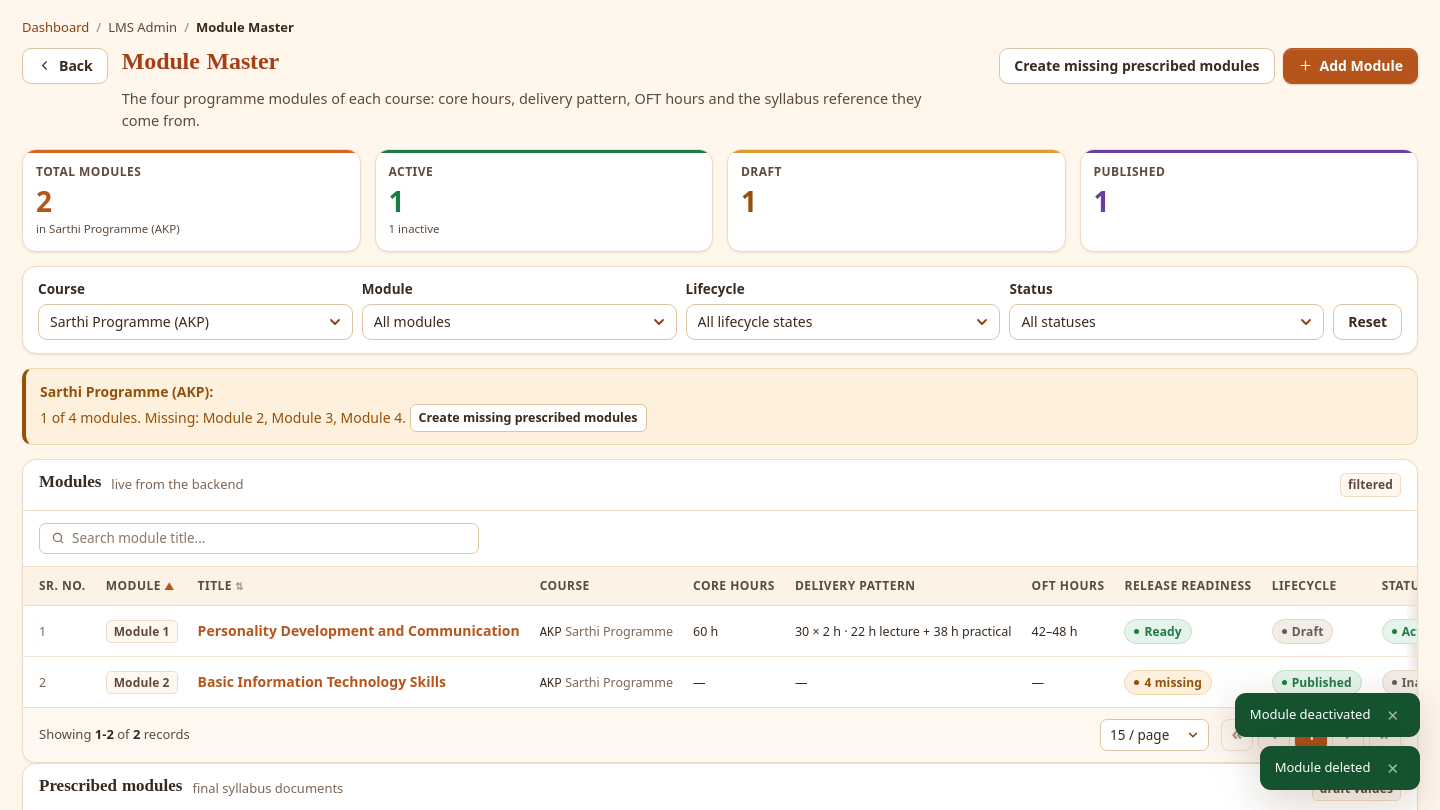
Test: <CourseModuleList> › creates the missing prescribed modules: asks for the syllabus reference, confirms, then sends { courseId, syllabusRef }
Expected: the text "Personality Development and Communication" is shown, 198,621 -> 520,640
Click the 1st button "Create missing prescribed modules". click: (1137, 66)
box: 999,48 -> 1274,84
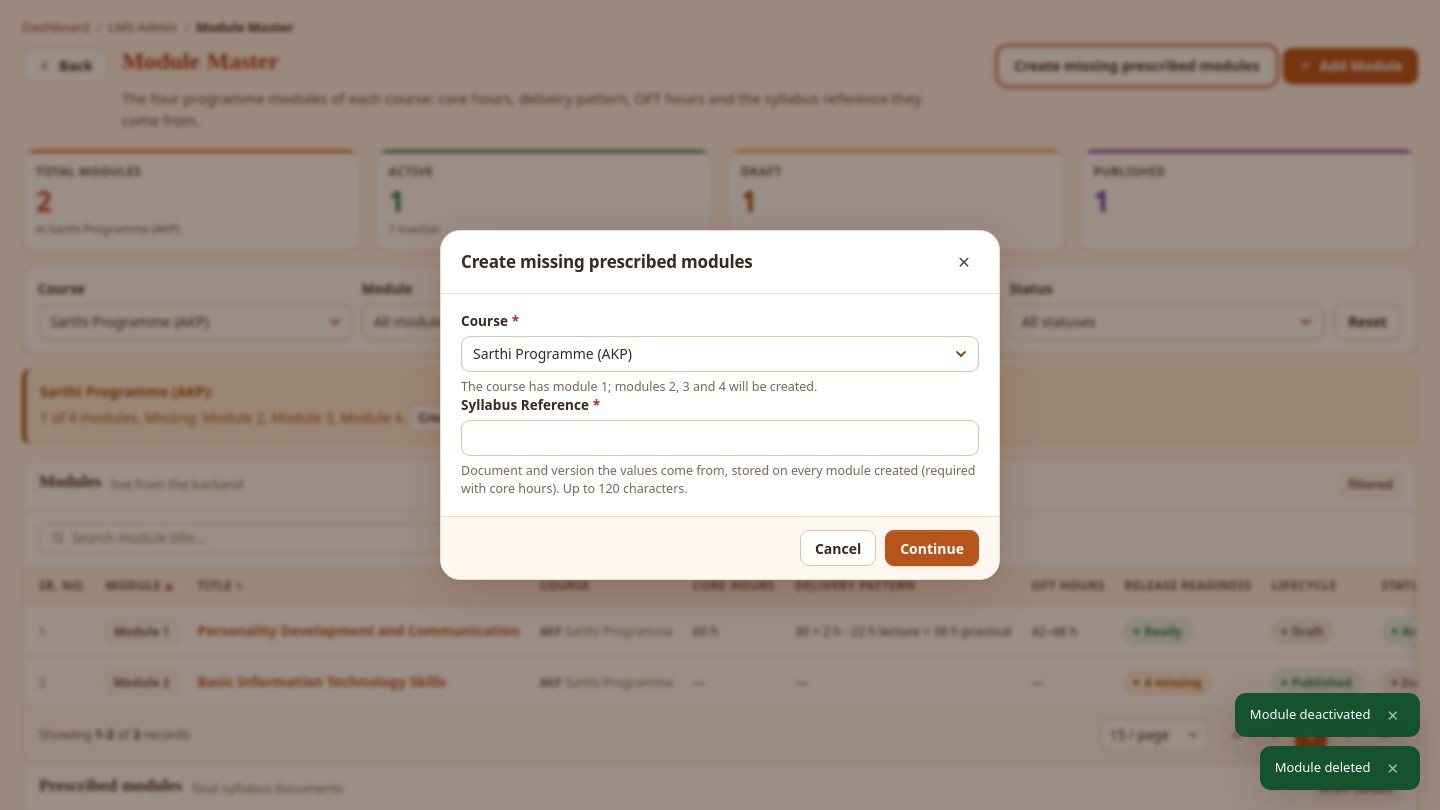
Expected: the dropdown labelled "Course *" shows "Sarthi Programme (AKP)", 461,336 -> 979,372
Expected: the text "The course has module 1; modules 2, 3 and 4 will be created." is shown, 461,378 -> 817,395
Click the button "Continue". click: (932, 548)
box: 885,530 -> 979,566
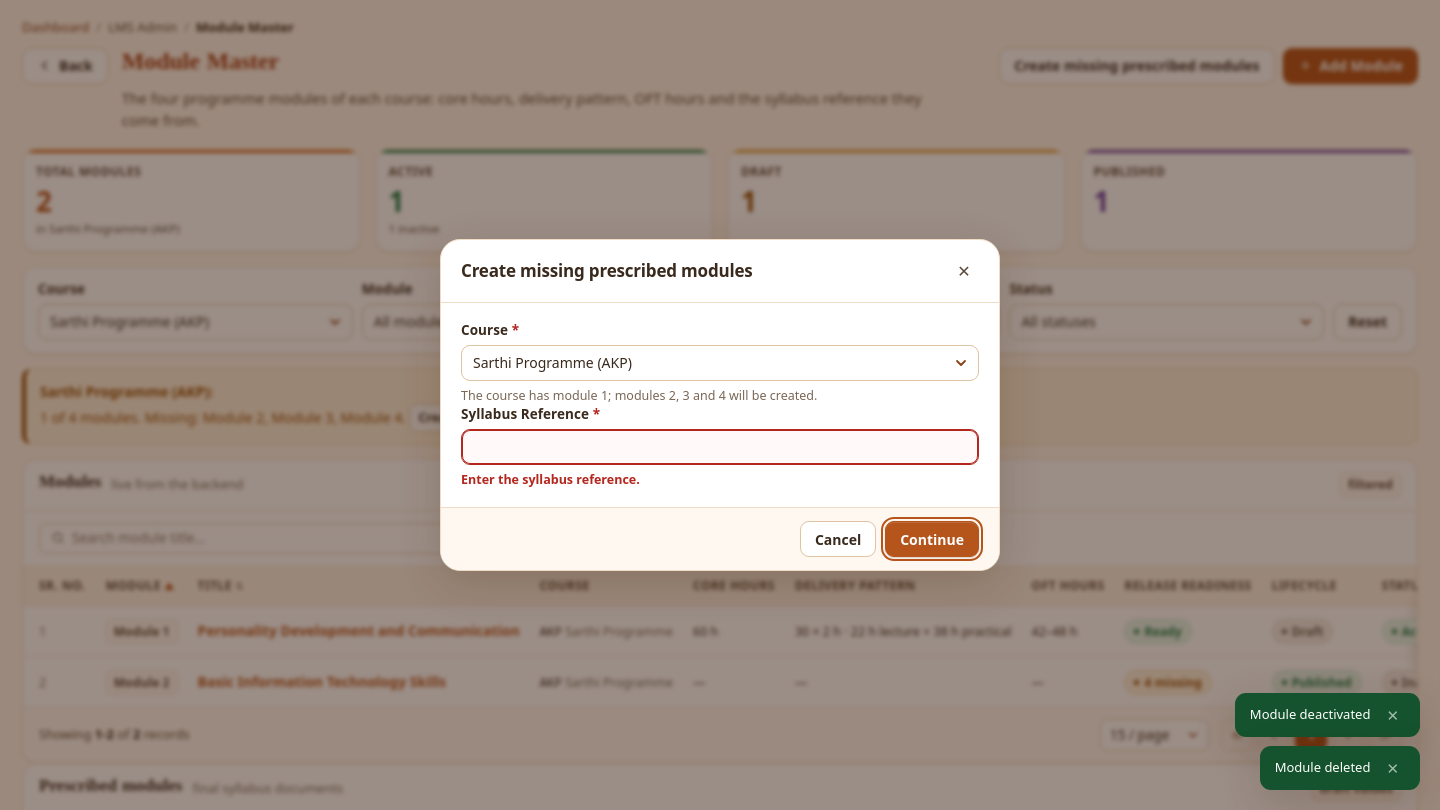
Expected: the text "Enter the syllabus reference." is shown, 461,471 -> 640,488
Type "  Final syllabus v1 " into the field labelled "Syllabus Reference *". click: (720, 447)
box: 461,429 -> 979,465
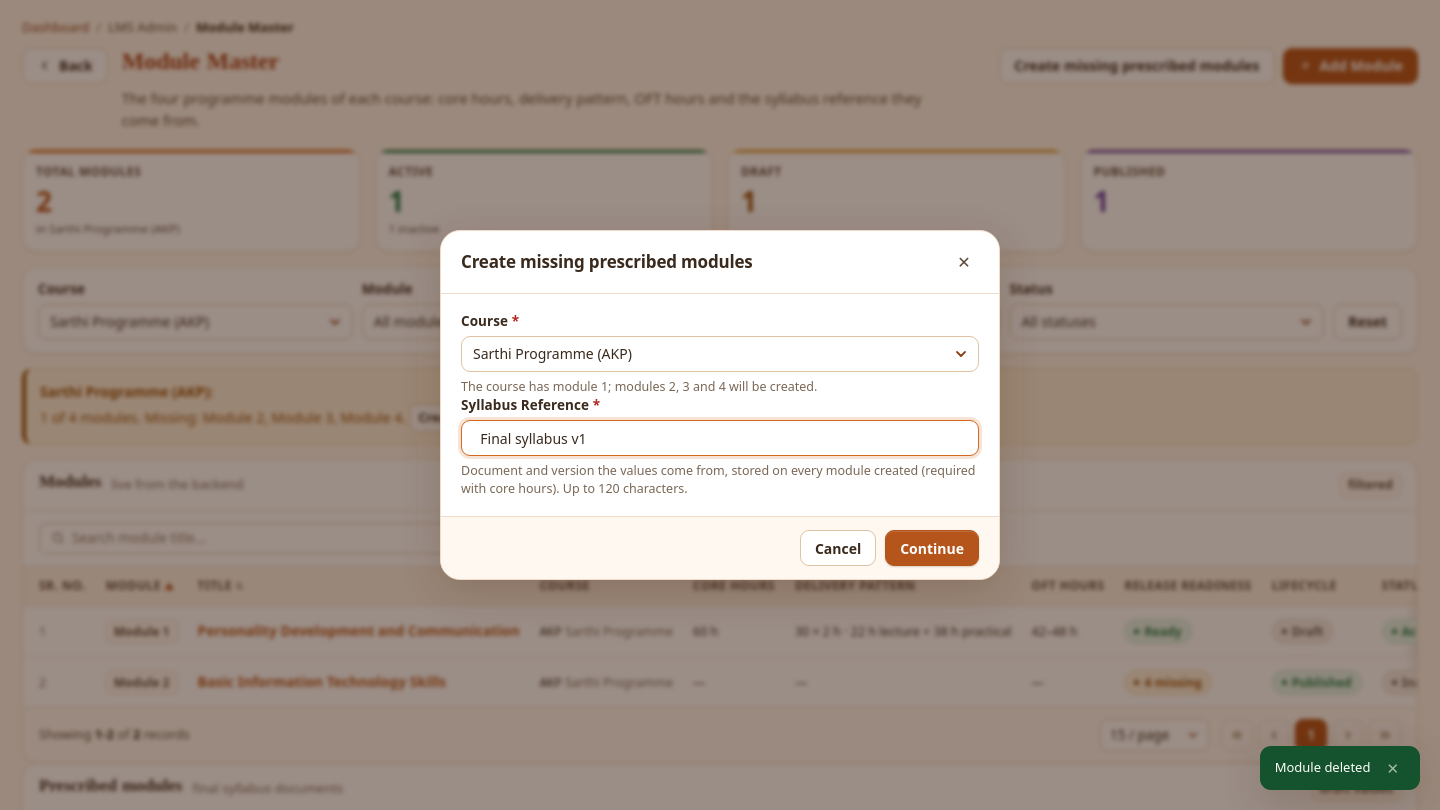
Click the button "Continue". click: (932, 548)
box: 885,530 -> 979,566
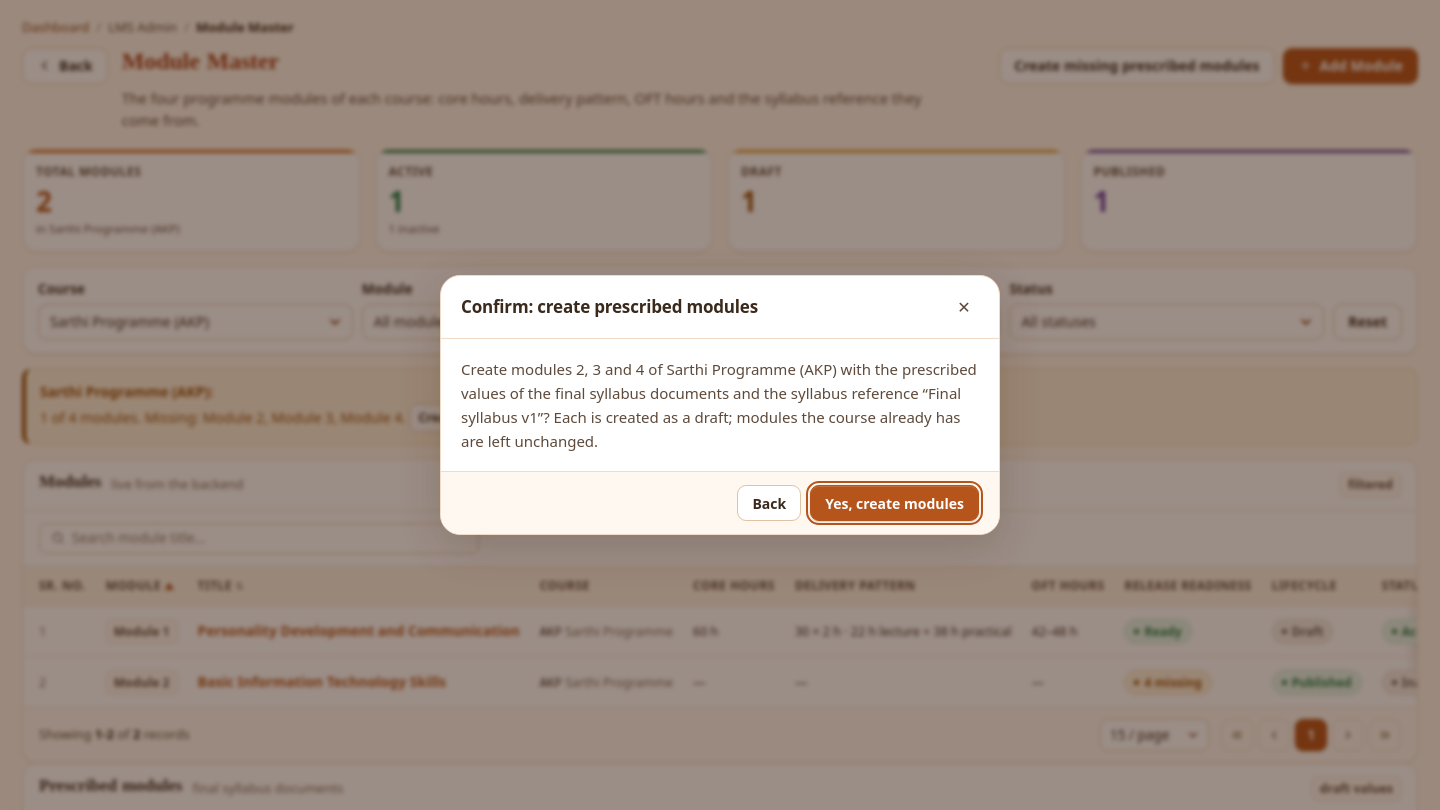
Expected: the dialog shows "Create modules 2, 3 and 4 of Sarthi Programme (AKP)", 440,275 -> 1000,535
Click the button "Yes, create modules". click: (895, 503)
box: 810,485 -> 979,521
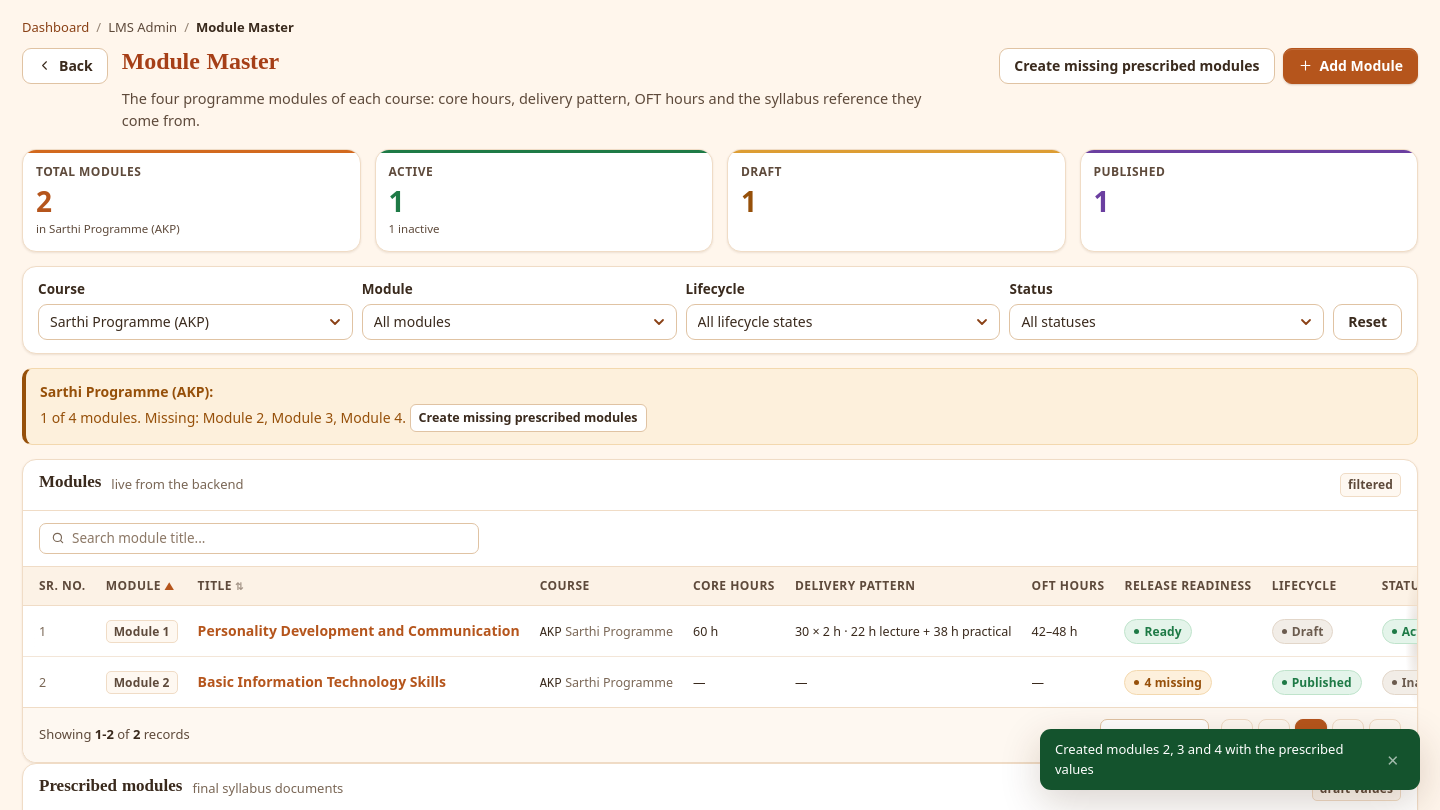
Expected: the dialog is gone
